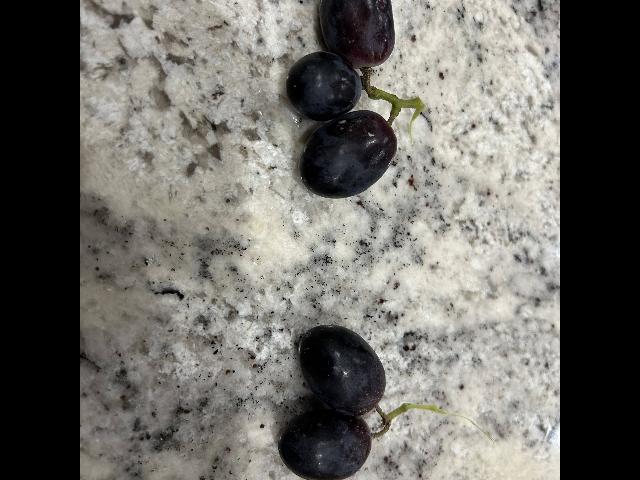Grapes: (286, 0, 426, 198), (277, 324, 436, 480)
